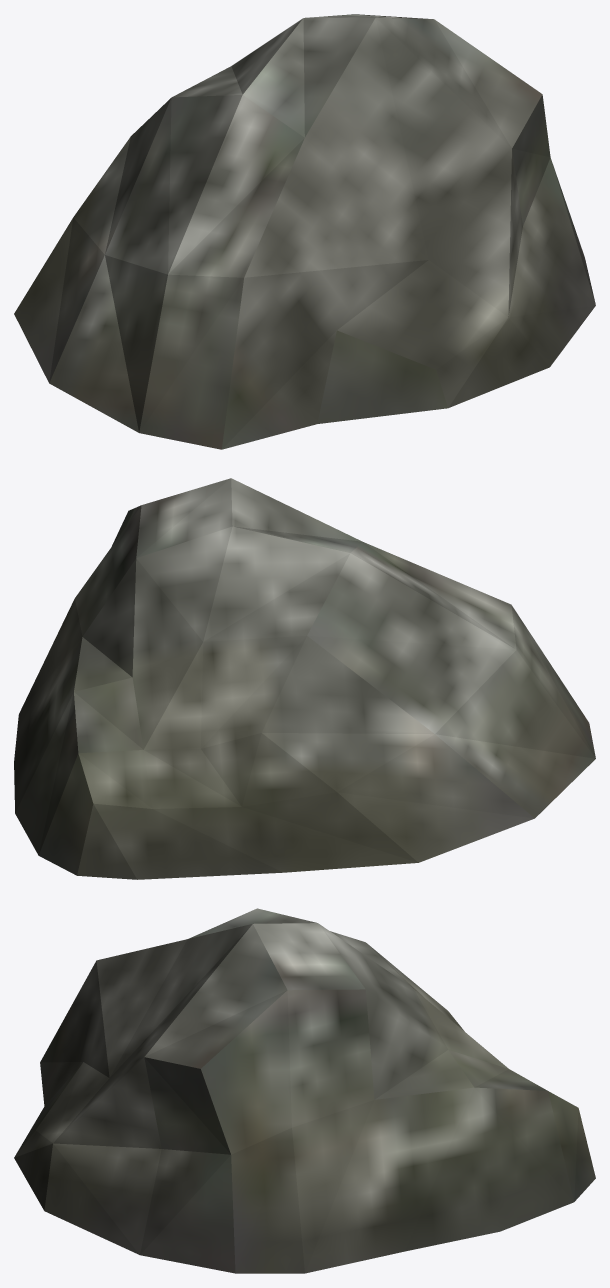
Rendered from rock_02_game.glb.
The picture shows the model from 3 angles, top to bottom: view 1: azimuth 30°, elevation 25°; view 2: azimuth 150°, elevation 25°; view 3: azimuth 270°, elevation 25°; orthographic projection. The views are drawn at different scales.
Visible parts, largest first — view 1: geometry_0; view 2: geometry_0; view 3: geometry_0.
Part boxes in pixels (x1=…): geometry_0: x1=14, y1=14, x2=595, y2=449; geometry_0: x1=14, y1=478, x2=595, y2=879; geometry_0: x1=14, y1=908, x2=595, y2=1273.
Size of the model in its own units: 3.78 by 1.96 by 3.93.
1 material, 1 textured.
